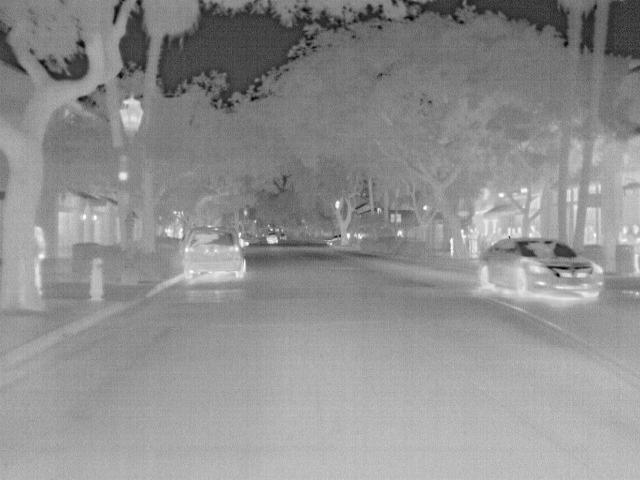car: (476, 235, 607, 299), (182, 229, 248, 279), (264, 230, 282, 246), (323, 234, 341, 248)
person: (34, 223, 49, 298), (618, 224, 634, 248)
